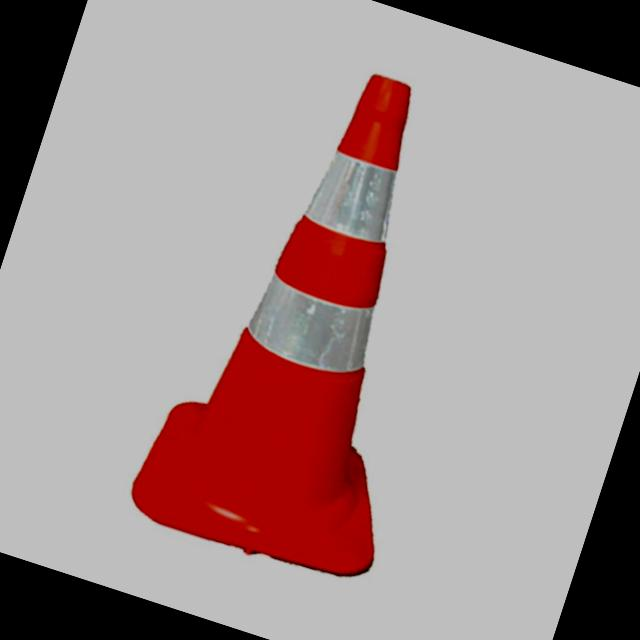cone: (90, 32, 530, 580)
